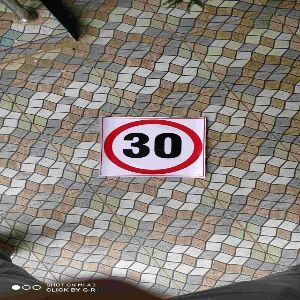speedlimit30: (101, 118, 208, 178)
